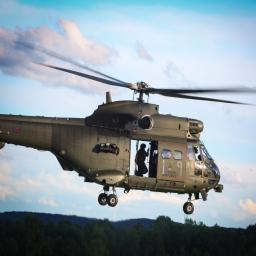helicopter: (2, 67, 247, 215)
